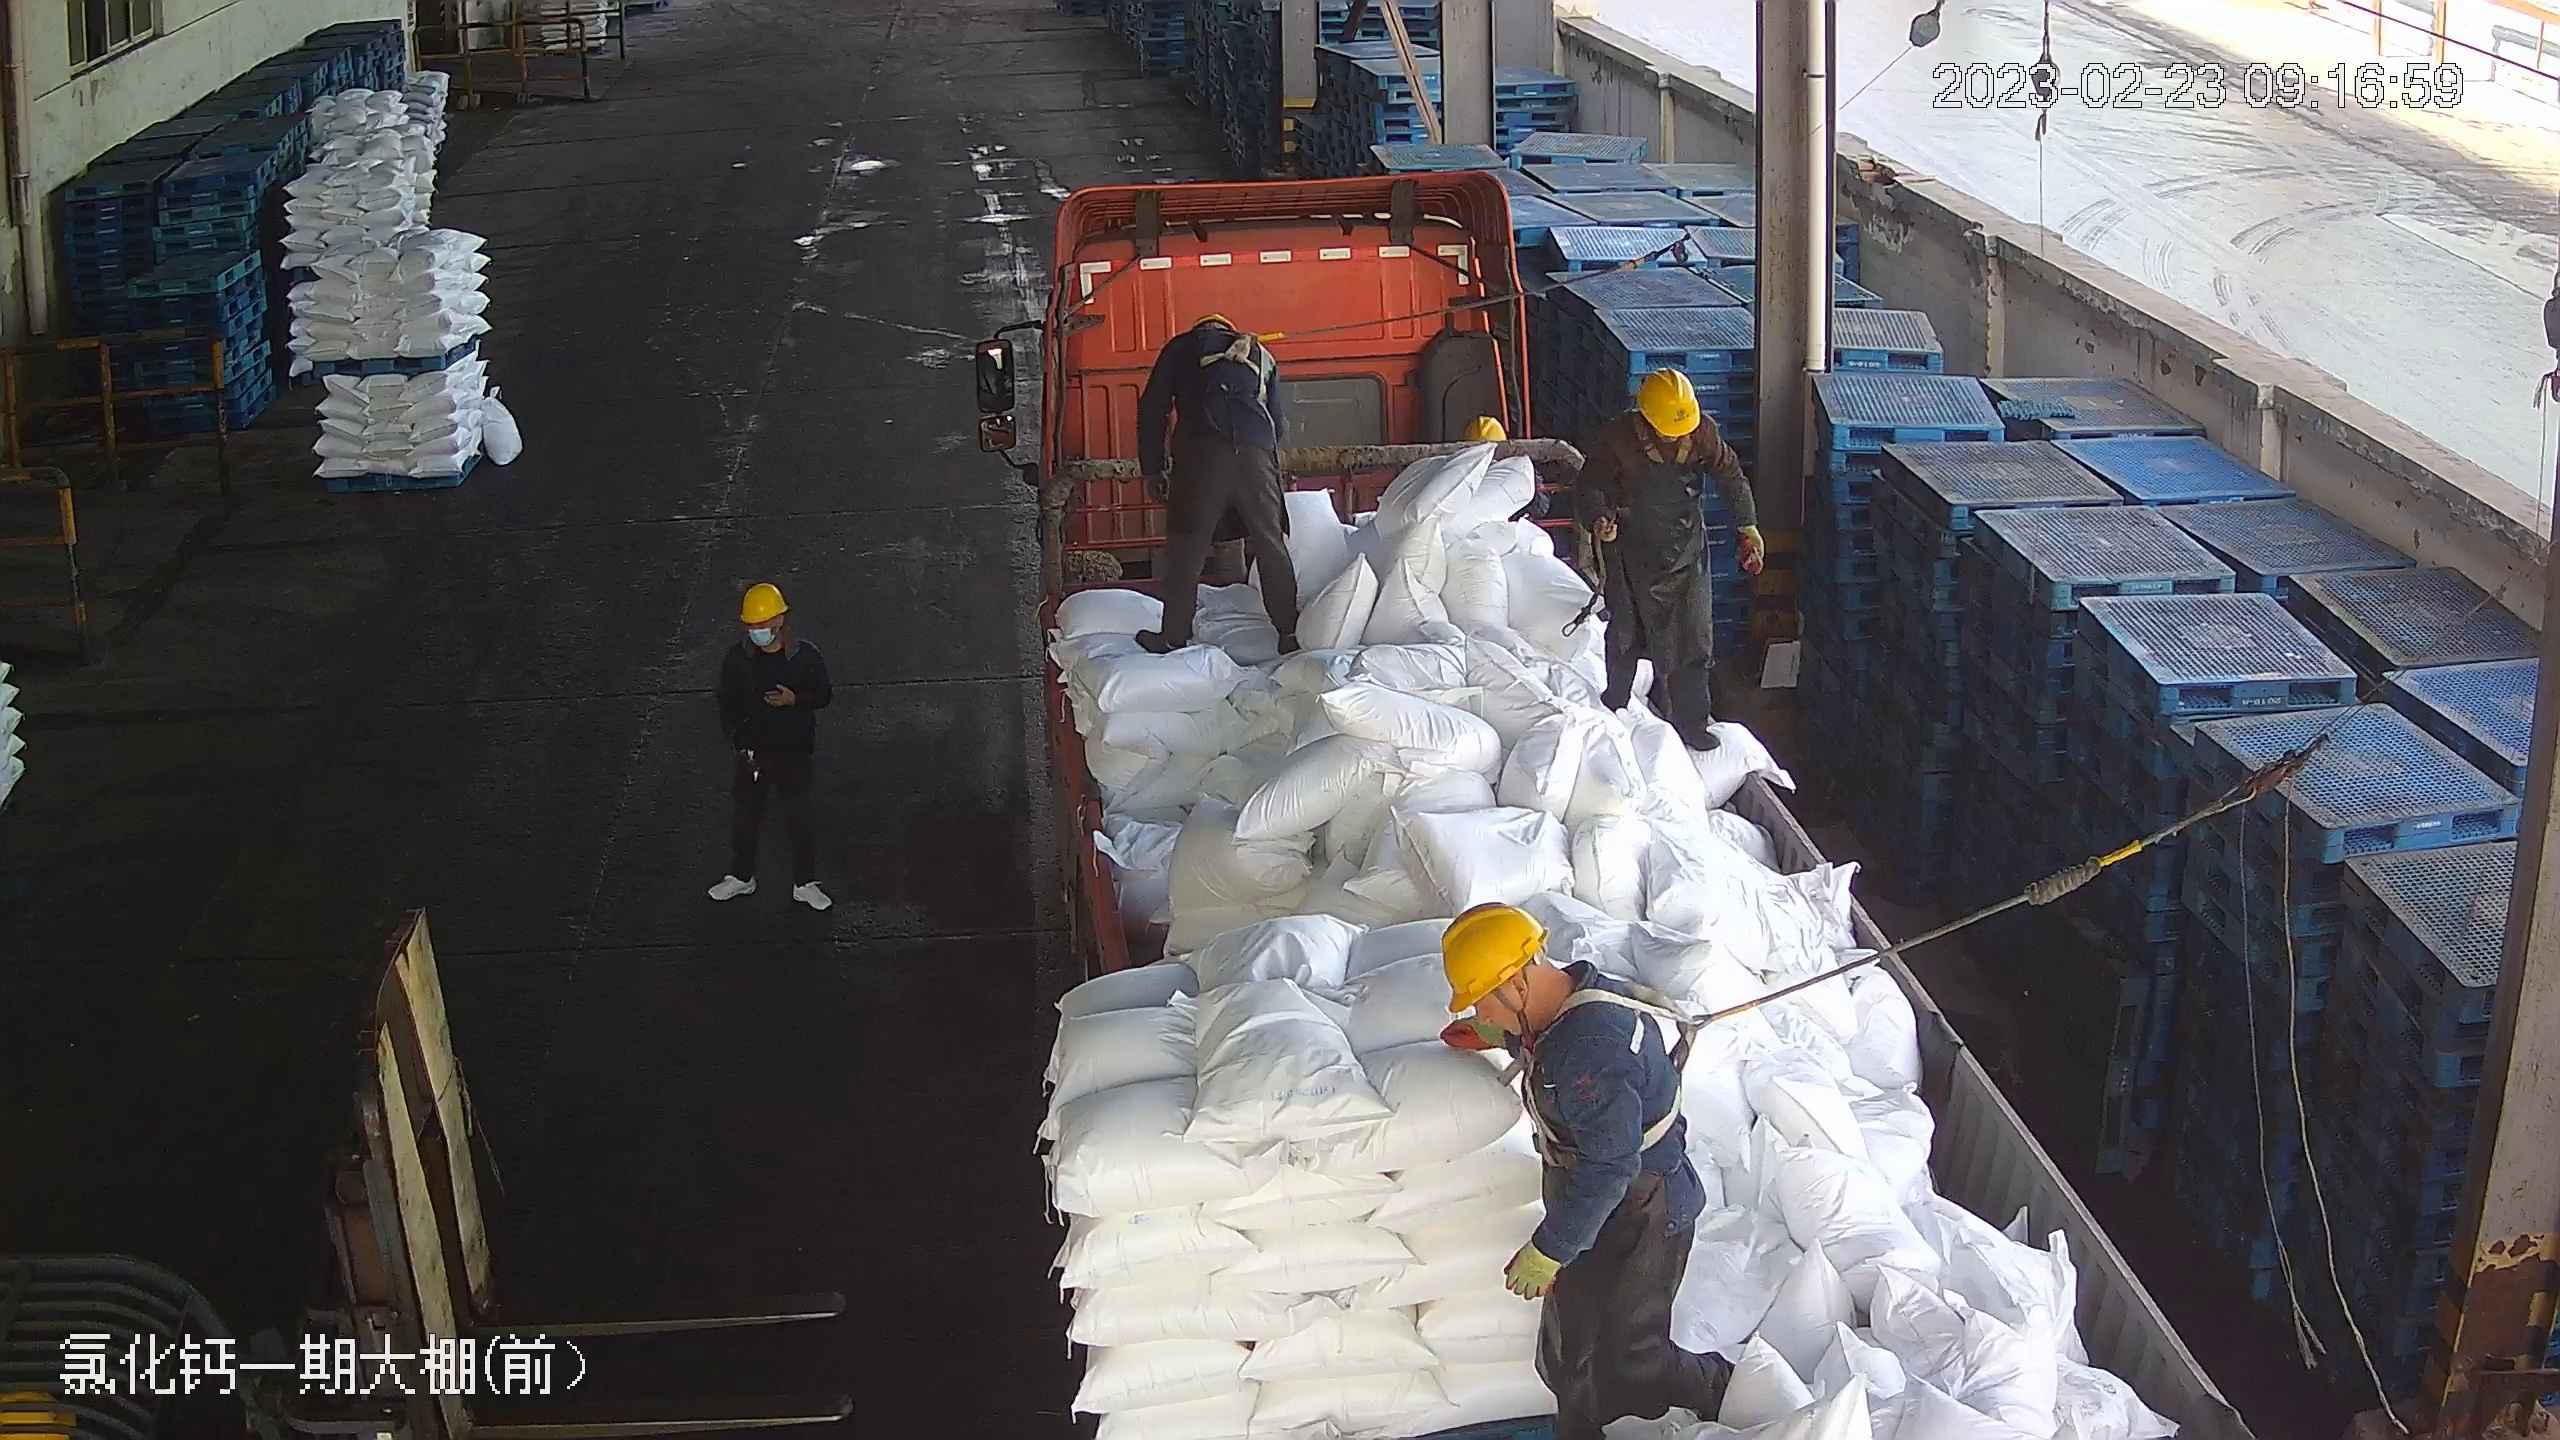belt: (1533, 988, 1754, 1165), (1199, 330, 1278, 389), (1637, 417, 1701, 471)
head: (1433, 903, 1647, 1111), (1600, 367, 1730, 478), (722, 580, 828, 688)
helmet: (1435, 901, 1545, 1008), (1631, 364, 1704, 434), (736, 580, 789, 622), (1460, 409, 1511, 445)
people: (1433, 900, 1717, 1433), (1576, 368, 1762, 760), (1131, 302, 1317, 667), (704, 580, 843, 914)
truck: (977, 179, 2249, 1436)
